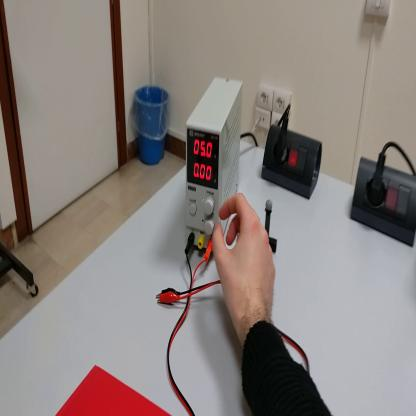hand: (213, 194, 277, 327)
power supply: (184, 74, 245, 249)
register: (54, 368, 171, 414)
socket: (352, 153, 416, 247), (263, 124, 325, 201)
